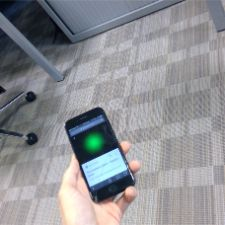focus: (82, 133, 106, 151)
